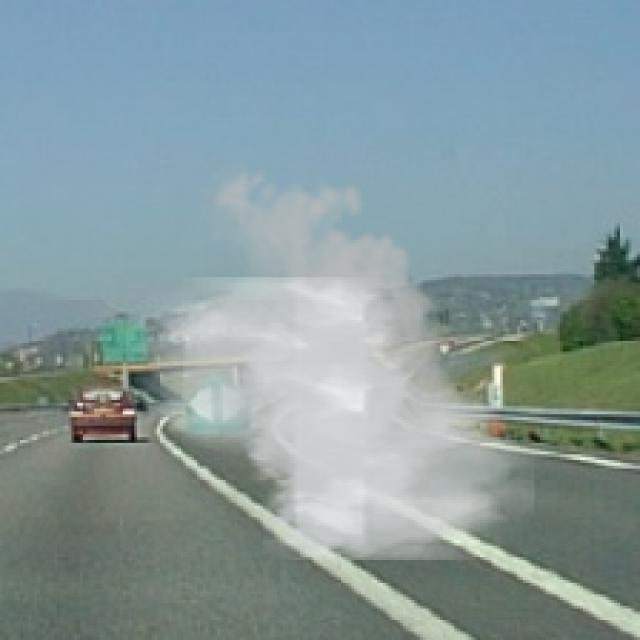smoke: (126, 157, 534, 560)
